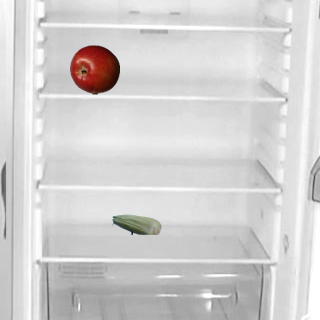Apple Braeburn: (69, 44, 119, 94)
Corn Husk: (111, 199, 161, 249)
